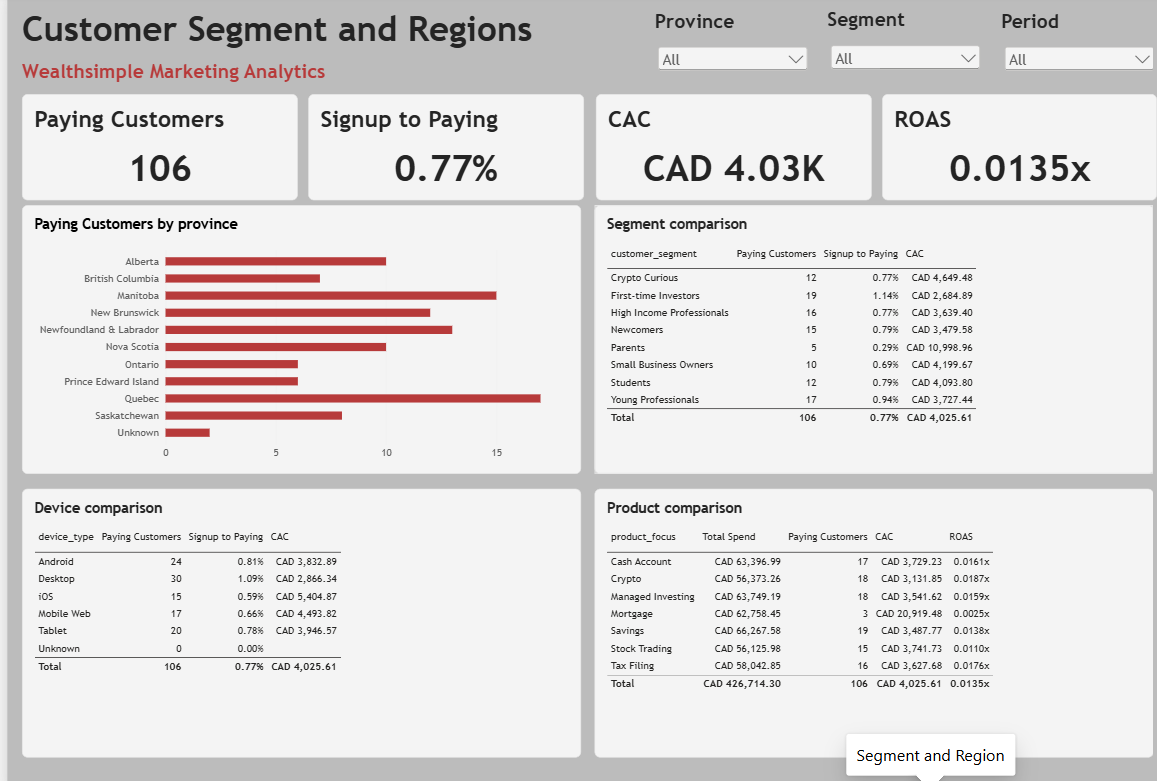

The page's visual inventory and layout, read from the dashboard file:
{"tool":"powerbi","page":{"name":"Segment and Region","canvas":[1600,1100],"ordinal":5},"visuals":[{"type":"slicer","title":"Province","fields":{"Values":["Fact_Campaigns.province"]},"box":[891.9,19.4,215,105],"z":0},{"type":"slicer","title":"Segment","fields":{"Values":["Fact_Campaigns.customer_segment"]},"box":[1129,17.7,215,105],"z":1000},{"type":"slicer","title":"Period","fields":{"Values":["Dim_Date.YearMonth"]},"box":[1370,20,215,105],"z":2000},{"type":"card","title":"Paying Customers","fields":{"Values":["Fact_Campaigns.Paying Customers"]},"box":[20,135.9,380,146.2],"z":3000},{"type":"card","title":"Signup to Paying","fields":{"Values":["Fact_Campaigns.Signup to Paying"]},"box":[415.4,135.9,380,146.2],"z":4000},{"type":"card","title":"CAC","fields":{"Values":["Fact_Campaigns.CAC"]},"box":[810.8,135.9,380,146.2],"z":5000},{"type":"card","title":"ROAS","fields":{"Values":["Fact_Campaigns.ROAS"]},"box":[1204.6,135.9,380,146.2],"z":6000},{"type":"clusteredBarChart","fields":{"Category":["Fact_Campaigns.province"],"Y":["Fact_Campaigns.Paying Customers"]},"box":[20,290,770,370],"z":7000},{"type":"tableEx","title":"Segment comparison","fields":{"Values":["Fact_Campaigns.customer_segment","Fact_Campaigns.Paying Customers","Fact_Campaigns.Signup to Paying","Fact_Campaigns.CAC"]},"box":[810,290,770,370],"z":8000},{"type":"tableEx","title":"Device comparison","fields":{"Values":["Fact_Campaigns.device_type","Fact_Campaigns.Paying Customers","Fact_Campaigns.Signup to Paying","Fact_Campaigns.CAC"]},"box":[20,680,770,370],"z":9000},{"type":"tableEx","title":"Product comparison","fields":{"Values":["Fact_Campaigns.product_focus","Fact_Campaigns.Total Spend","Fact_Campaigns.Paying Customers","Fact_Campaigns.CAC","Fact_Campaigns.ROAS"]},"box":[810,680,770,370],"z":10000},{"type":"textbox","box":[19.4,17.7,733.9,138.7],"z":11000}]}

Visuals, with their boxes in screenshot pixels (x1, y1, x2, y2), scaled from the page's 1600x1100 canvas onto the 1157x781 screenshot:
"Province" slicer: (x1=645, y1=14, x2=800, y2=88)
"Segment" slicer: (x1=816, y1=13, x2=972, y2=87)
"Period" slicer: (x1=991, y1=14, x2=1146, y2=89)
"Paying Customers" card: (x1=14, y1=96, x2=289, y2=200)
"Signup to Paying" card: (x1=300, y1=96, x2=575, y2=200)
"CAC" card: (x1=586, y1=96, x2=861, y2=200)
"ROAS" card: (x1=871, y1=96, x2=1146, y2=200)
clusteredBarChart - Fact_Campaigns.province x Fact_Campaigns.Paying Customers: (x1=14, y1=206, x2=571, y2=469)
"Segment comparison" tableEx: (x1=586, y1=206, x2=1143, y2=469)
"Device comparison" tableEx: (x1=14, y1=483, x2=571, y2=746)
"Product comparison" tableEx: (x1=586, y1=483, x2=1143, y2=746)
textbox: (x1=14, y1=13, x2=545, y2=111)
